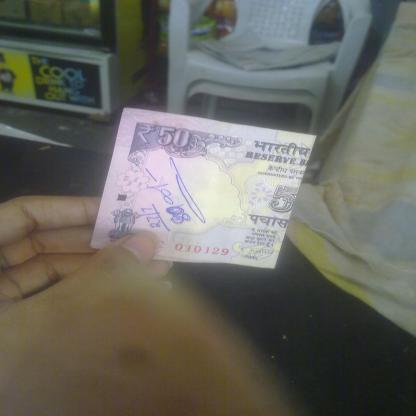Old50Front: (90, 106, 317, 270)
